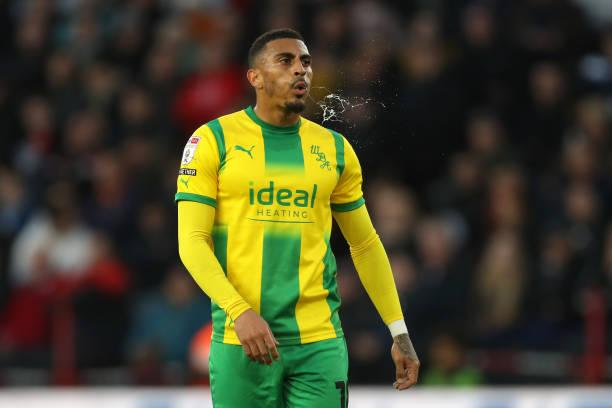Spitting: (239, 27, 361, 139)
